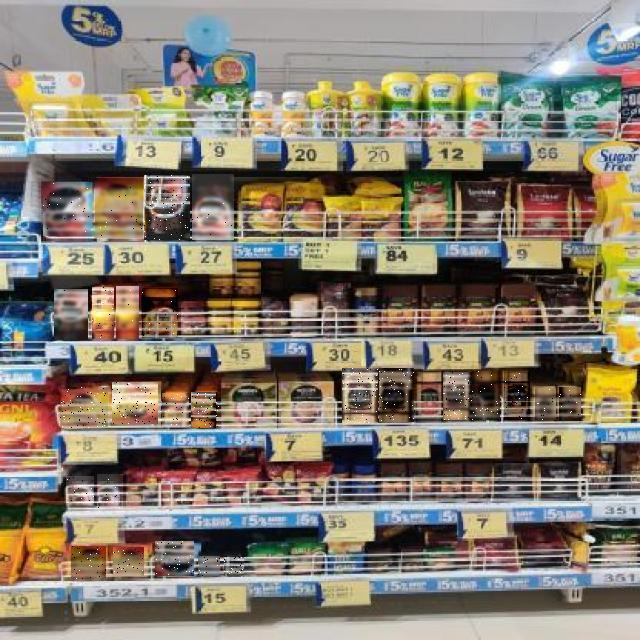Coffee: (144, 175, 190, 240), (95, 179, 143, 239), (192, 175, 234, 241), (43, 182, 92, 236), (342, 368, 378, 423), (60, 387, 108, 428), (380, 369, 416, 423), (113, 382, 159, 424), (142, 288, 178, 338), (55, 289, 89, 340), (444, 372, 474, 420), (472, 371, 500, 420), (155, 541, 194, 576), (504, 372, 530, 420), (116, 286, 139, 339), (71, 546, 106, 579), (92, 287, 114, 339), (192, 392, 220, 428), (98, 474, 126, 508), (162, 393, 189, 427), (113, 547, 144, 576), (66, 476, 94, 506), (559, 387, 581, 421), (535, 388, 556, 420), (198, 556, 220, 576), (224, 556, 244, 576)
